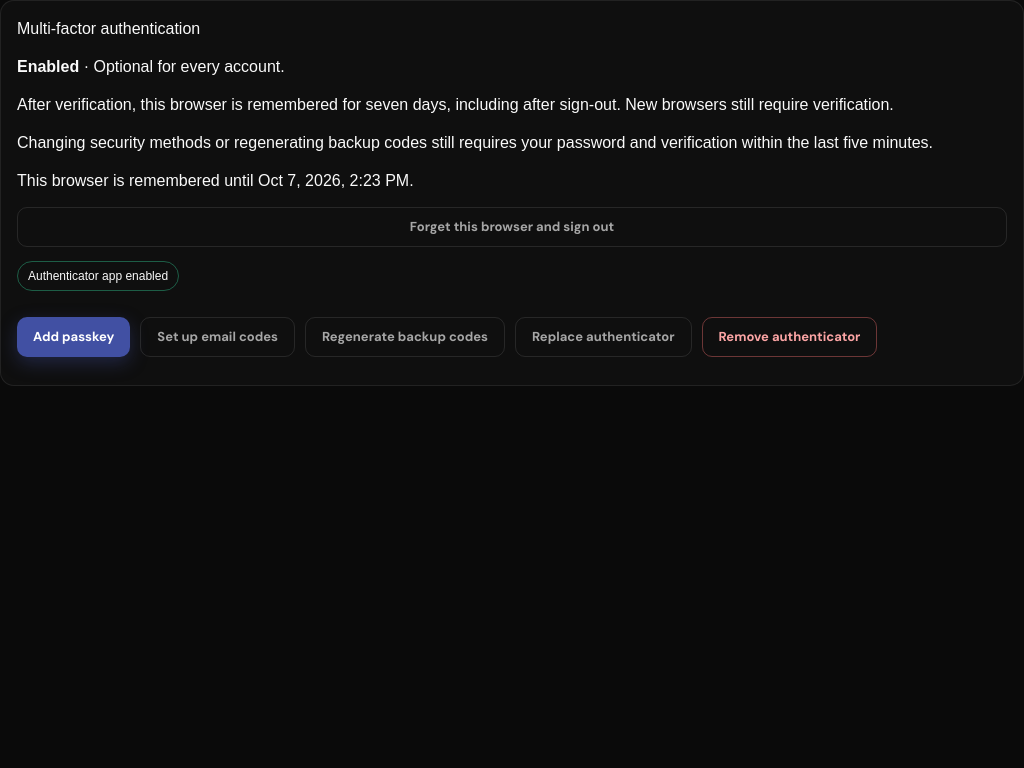
Scenario: weekly MFA browser controls › returns keyboard focus to the forget control when confirmation is cancelled
What coordinates should you click on to do the following:
click the button "Forget this browser and sign out"
I would click on:
 (512, 227)
Its box is [17,207,1007,247].
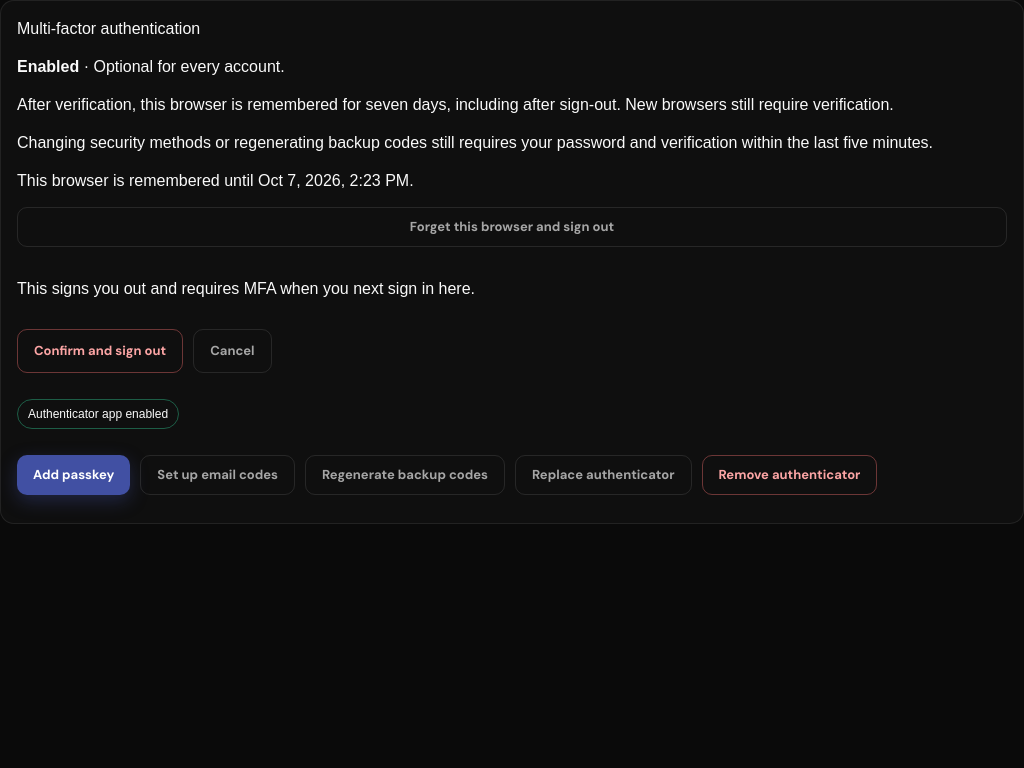
What coordinates should you click on to do the following:
click the button "Cancel"
I would click on:
 (232, 351)
Its box is [193,329,272,373].
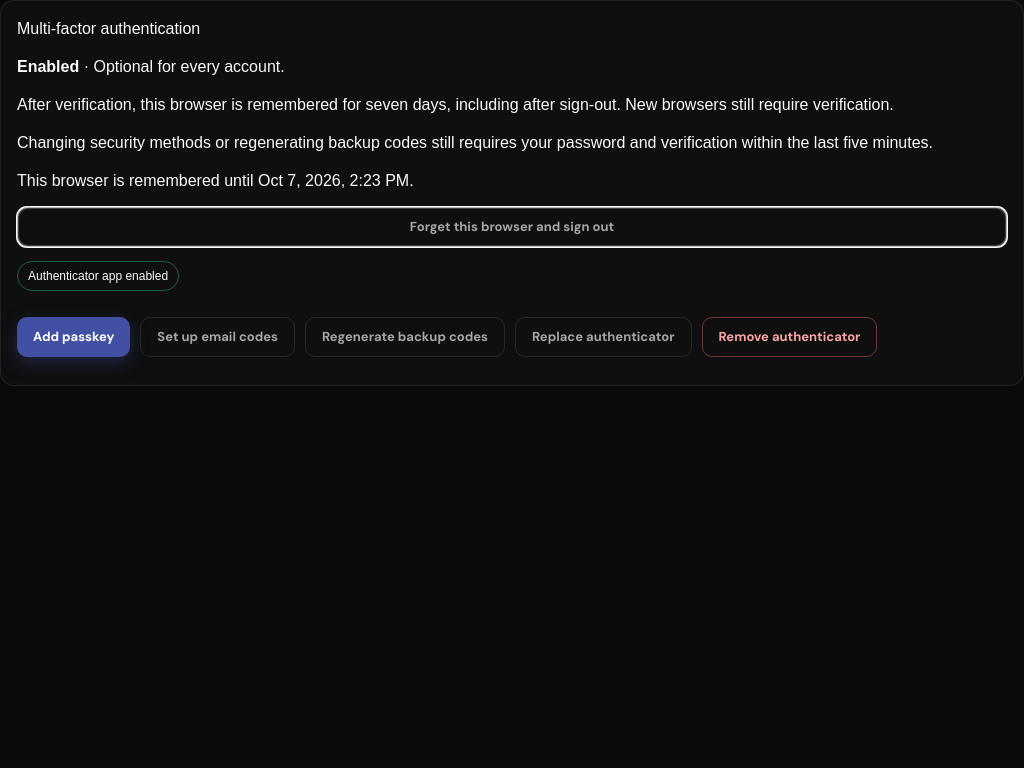
Result: the button "Forget this browser and sign out" is collapsed at [17,207,1007,247]
